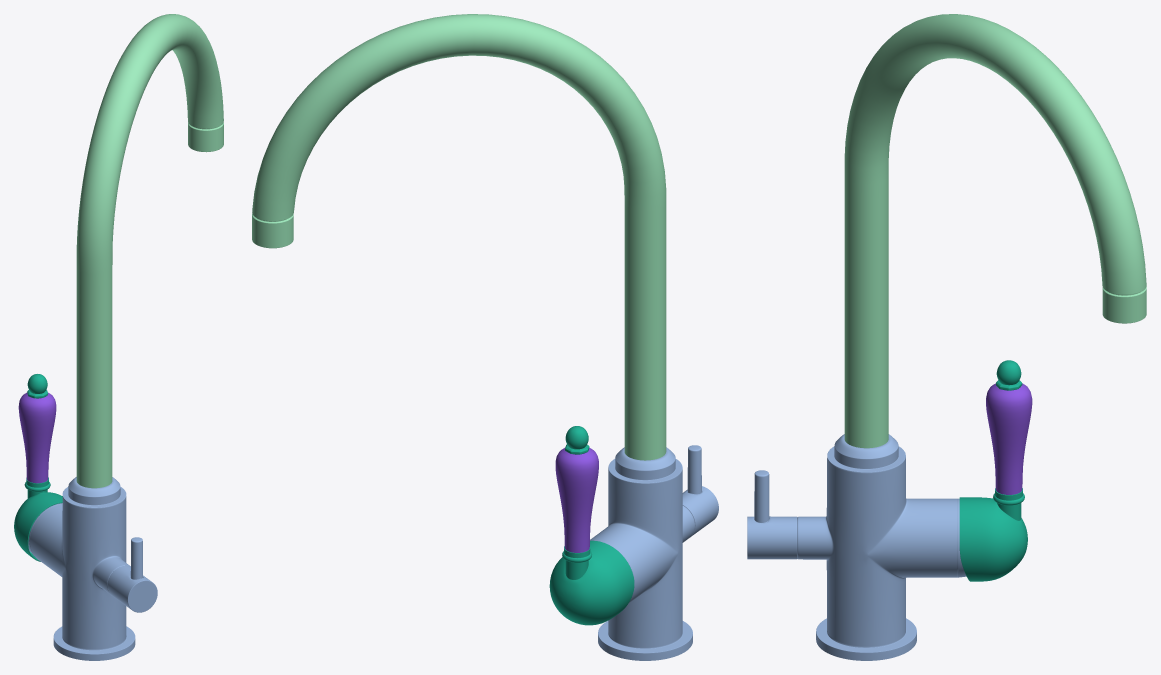
Rendered from Zorg.obj.
The picture shows the model from 3 angles, left to right: view 1: azimuth 30°, elevation 25°; view 2: azimuth 150°, elevation 25°; view 3: azimuth 270°, elevation 25°; orthographic projection. The views are drawn at different scales.
Visible parts, largest first — view 1: zorg04, zorg03, zorg01, zorg02; view 2: zorg04, zorg03, zorg02, zorg01; view 3: zorg04, zorg03, zorg02, zorg01.
Part boxes in pixels (left/top/right/bottom): zorg04: left=76, top=14, right=223, bottom=488; zorg03: left=28, top=477, right=157, bottom=660; zorg01: left=18, top=392, right=56, bottom=483; zorg02: left=14, top=374, right=62, bottom=561; zorg04: left=252, top=14, right=666, bottom=460; zorg03: left=590, top=445, right=718, bottom=660; zorg02: left=549, top=426, right=634, bottom=625; zorg01: left=555, top=447, right=598, bottom=552; zorg04: left=844, top=14, right=1146, bottom=448; zorg03: left=747, top=434, right=966, bottom=660; zorg02: left=959, top=360, right=1027, bottom=581; zorg01: left=986, top=383, right=1032, bottom=494.
Size of the model in its own units: 206 by 405 by 216.
